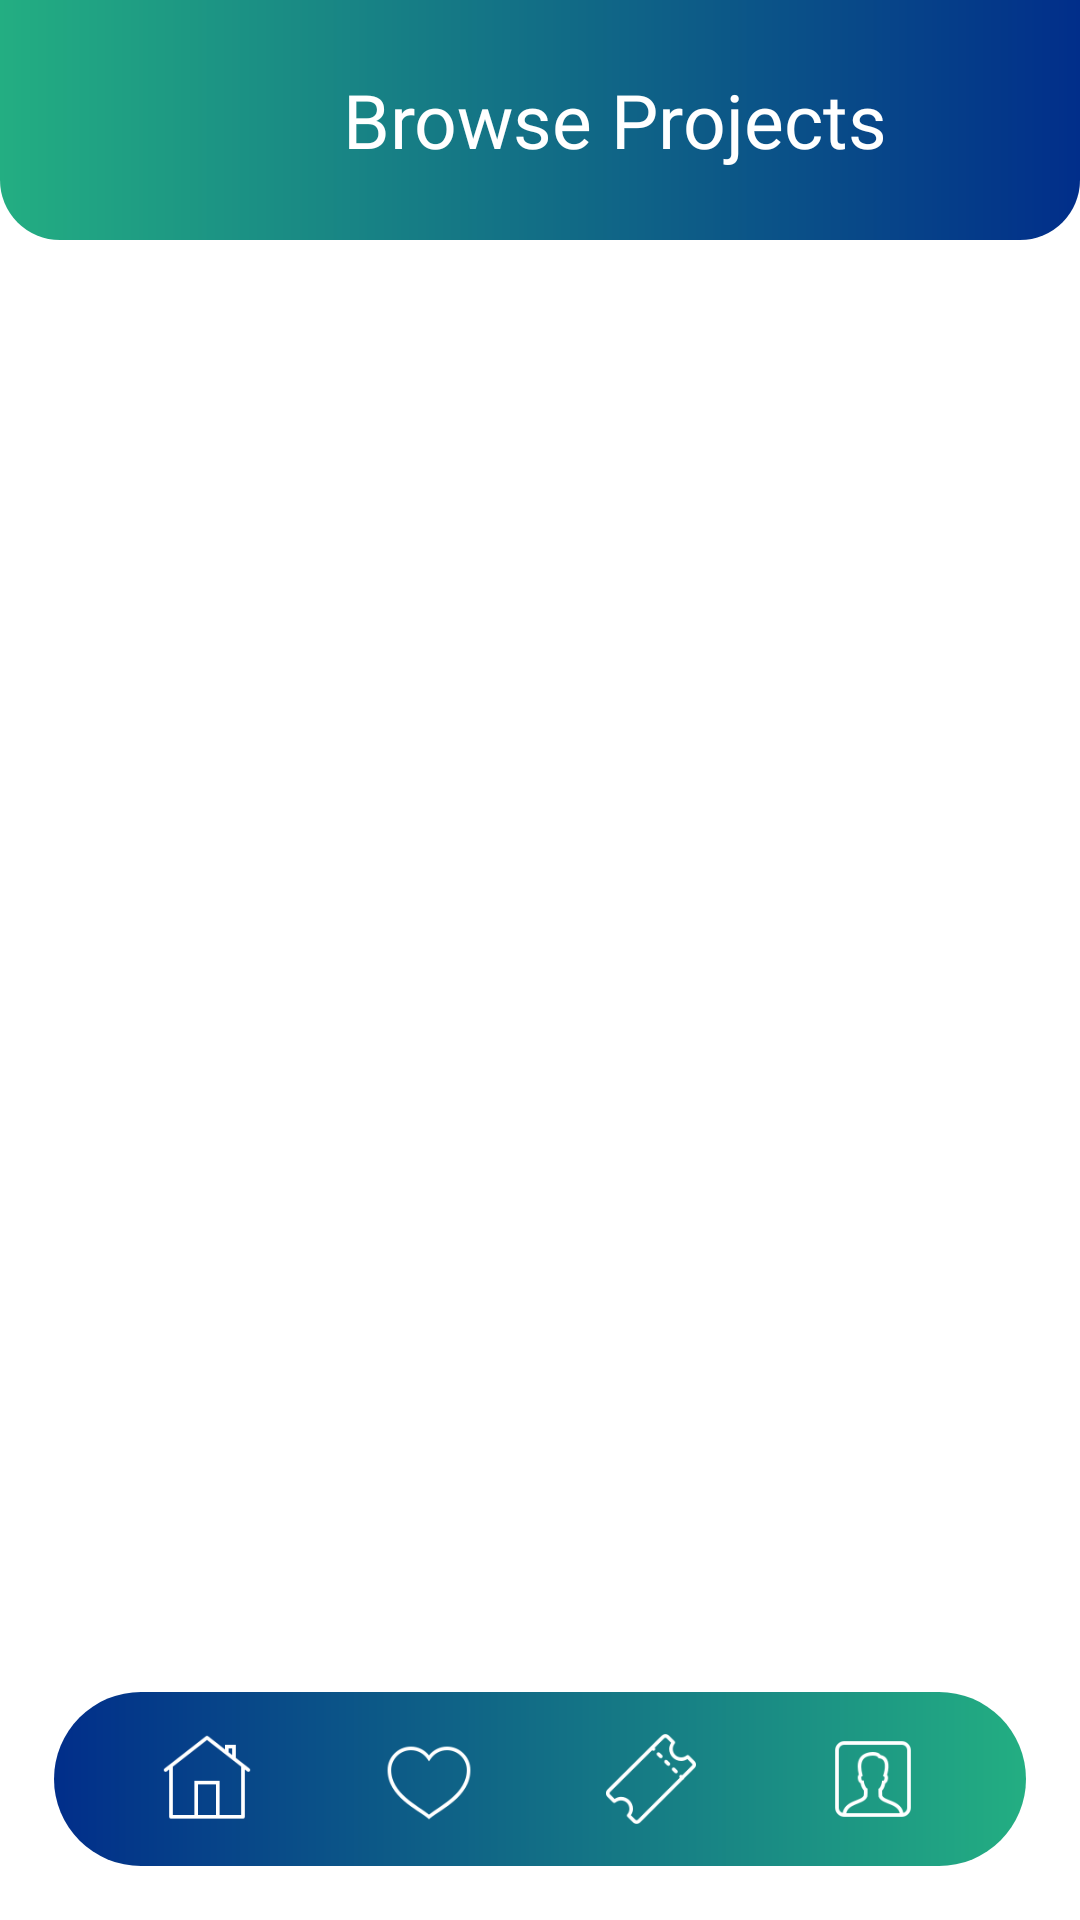

Point at icon controls on the screen. Image size 1080 x 1920, points as (x=x, y=y).
heart: (x=394, y=1779)
home: (x=237, y=1779)
ticket: (x=618, y=1779)
